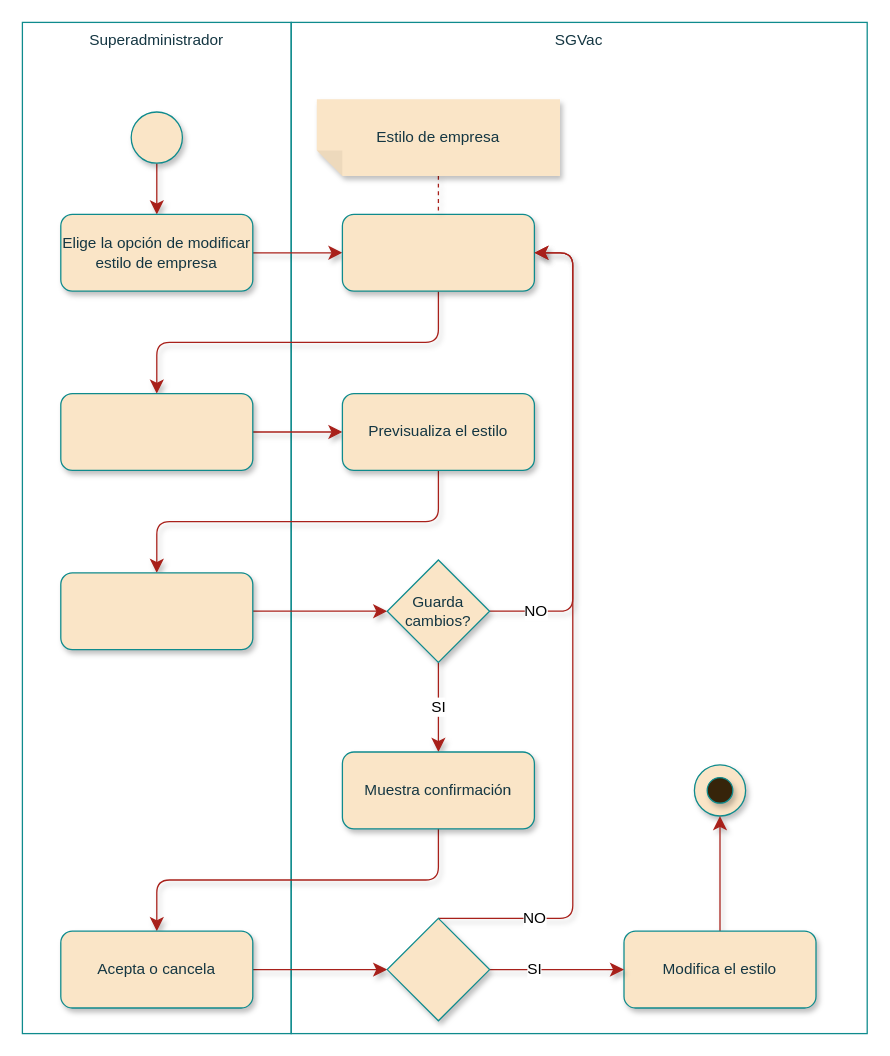
Image size: 890x1056. Some labels were removed from this diagram. Here are the shapes that lost their labels. From the top down, the centre of each, then its label:
At [439,254]: "Muestra formulario con estilo actual de la empresa".
At [157,433]: "Ingresa datos".
At [157,612]: "Guarda o descarta cambios".
At [439,971]: "Confirma?".
